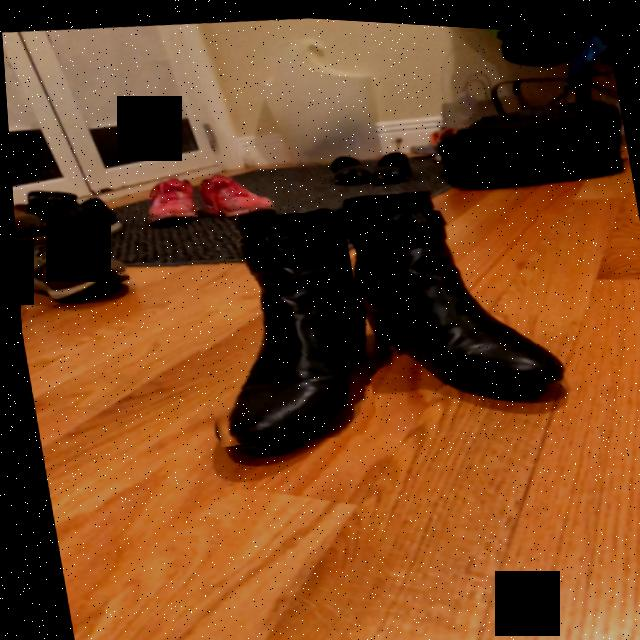shoe: (351, 189, 566, 381), (207, 209, 360, 444)
